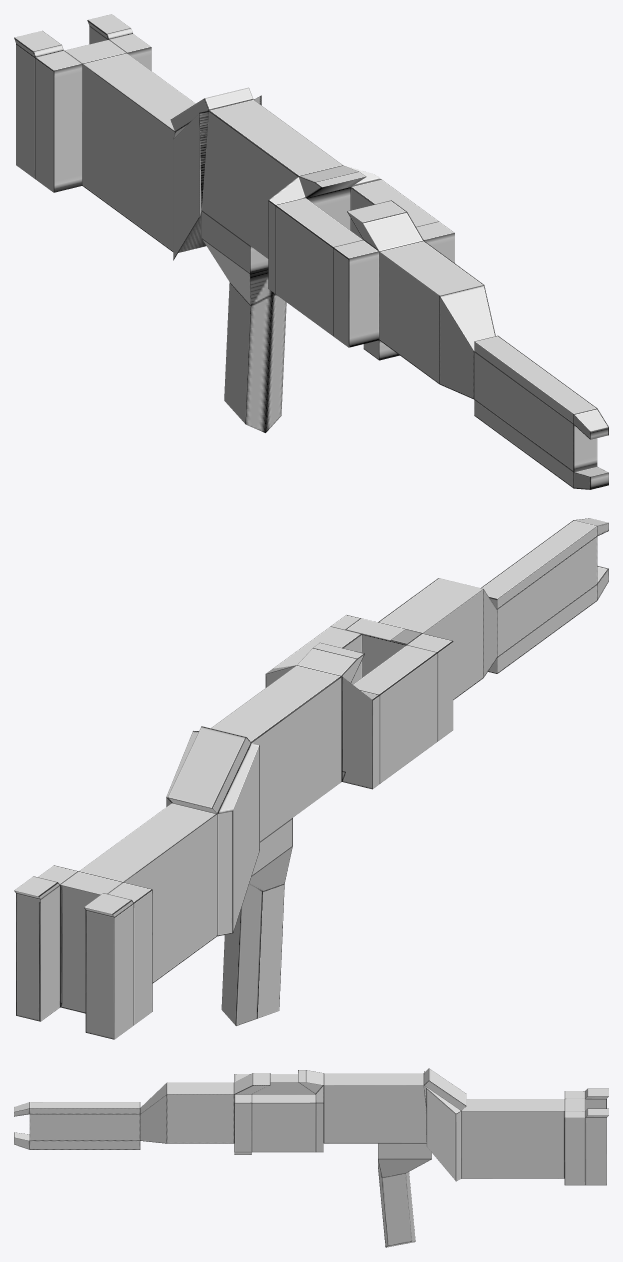
The model's file is lightTest.fbx.
3 renders of one model, top to bottom at view 1: azimuth 30°, elevation 25°; view 2: azimuth 150°, elevation 25°; view 3: azimuth 270°, elevation 25°, orthographic. The views are drawn at different scales.
Visible parts, largest first — view 1: Cube; view 2: Cube; view 3: Cube.
Boxes of the visible parts, x1,y1,x2,y2 form: Cube: (14, 14, 608, 489); Cube: (14, 518, 608, 1039); Cube: (14, 1068, 608, 1247).
Bounding box in the file's own units: 126 × 353 × 1099.
Materials: 1 (1 with a texture image).
